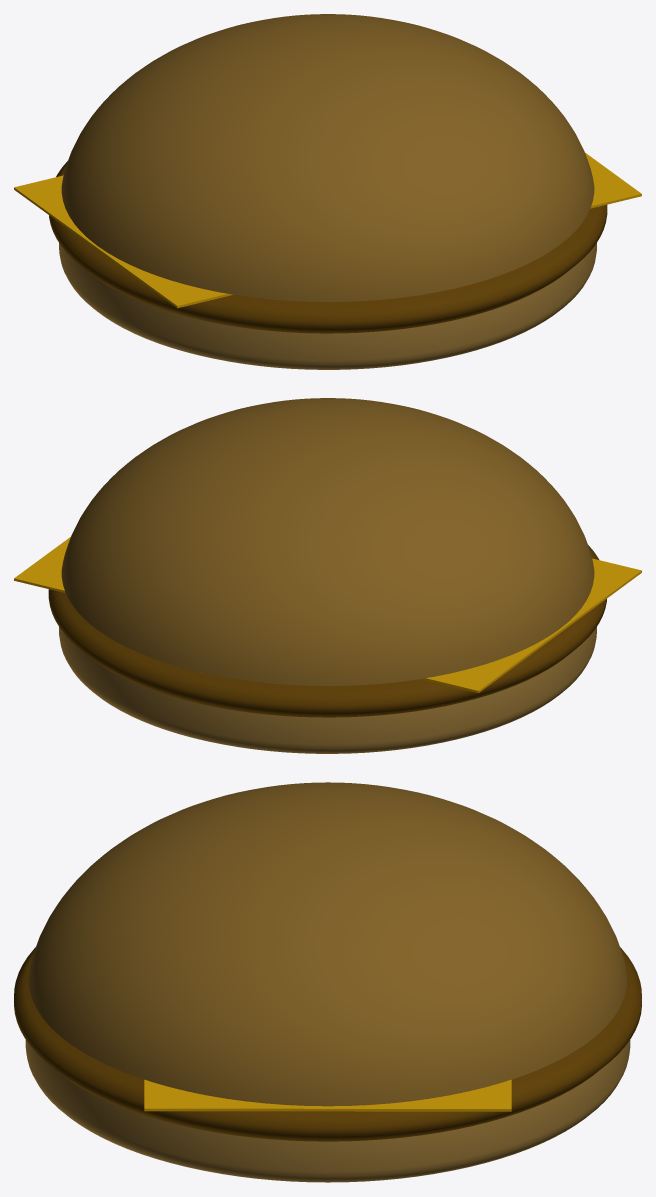
File: hamburger.dae
3 views of the same model, one above another, from view 1: azimuth 30°, elevation 25°; view 2: azimuth 150°, elevation 25°; view 3: azimuth 270°, elevation 25° (orthographic). The views are drawn at different scales.
Visible parts, largest first — view 1: Sphere, Cylinder, Cylinder.1, Cube; view 2: Sphere, Cylinder, Cylinder.1, Cube; view 3: Sphere, Cylinder, Cylinder.1, Cube.
Boxes of the visible parts, x1,y1,x2,y2 form: Sphere: [61, 14, 594, 301]; Cylinder: [59, 243, 596, 369]; Cylinder.1: [49, 161, 607, 333]; Cube: [14, 152, 641, 308]; Sphere: [61, 398, 594, 685]; Cylinder: [59, 627, 596, 753]; Cylinder.1: [48, 545, 606, 717]; Cube: [14, 537, 641, 693]; Sphere: [28, 782, 627, 1106]; Cylinder: [25, 1040, 630, 1182]; Cylinder.1: [14, 947, 641, 1141]; Cube: [144, 1079, 511, 1111].
Bounding box in the file's own units: 410 × 171 × 410.
